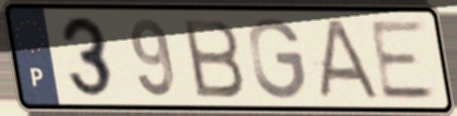3: (59, 12, 121, 103)
9: (127, 16, 177, 99)
A: (312, 17, 385, 102)
B: (178, 16, 248, 101)
E: (366, 17, 442, 102)
G: (246, 15, 309, 103)
